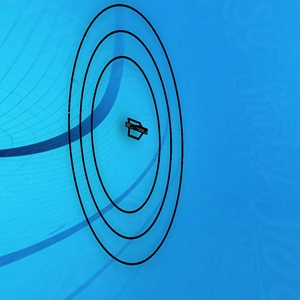circle: (63, 1, 188, 270)
submarine: (124, 114, 151, 144)
